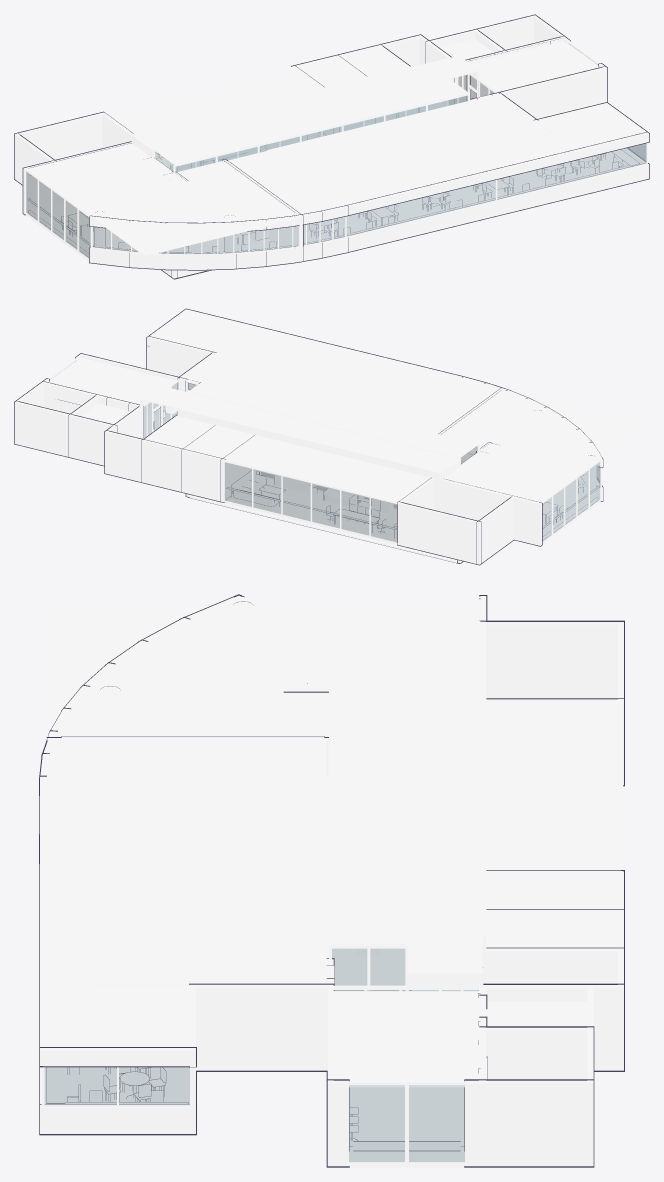
File: a4_blockout.glb
3 renders of one model, top to bottom at view 1: azimuth 30°, elevation 25°; view 2: azimuth 150°, elevation 25°; view 3: azimuth 270°, elevation 25°, orthographic. The views are drawn at different scales.
Parts seen in each view (by area): view 1: Walls, Ceil_BigRoom, Scenery_Ceil156, Glass_Wall_Ribbon, Ceil_Corridor, Ceil_Shaft, Floor, Ceil_Online, Glass_Wall, Ceil_A4-001, Ceil_GroupRooms, Glass_Wall_Shaft (+9 smaller); view 2: Walls, Ceil_BigRoom, Scenery_Ceil156, Glass_Wall, Ceil_Online, Ceil_Corridor, Ceil_Shaft, Online_Furn, Ceil_A4-001, Ceil_GroupRooms, Plaster_Band, Online_FloorTint (+5 smaller); view 3: Ceil_BigRoom, Walls, Scenery_Ceil156, Ceil_Online, Ceil_Corridor, Ceil_Shaft, Ceil_A4-001, Glass_Wall, Ceil_GroupRooms, Glass_Wall_Ribbon, A4-001_FloorTint, Glass_Wall_Shaft (+7 smaller).
Part boxes in pixels (left/top/right/bottom): Walls: left=14, top=14, right=649, bottom=279; Ceil_BigRoom: left=27, top=103, right=641, bottom=256; Scenery_Ceil156: left=228, top=94, right=644, bottom=214; Glass_Wall_Ribbon: left=92, top=143, right=647, bottom=255; Ceil_Corridor: left=135, top=56, right=476, bottom=149; Ceil_Shaft: left=154, top=78, right=468, bottom=164; Floor: left=26, top=101, right=626, bottom=270; Ceil_Online: left=103, top=66, right=322, bottom=134; Glass_Wall: left=25, top=40, right=601, bottom=260; Ceil_A4-001: left=469, top=41, right=598, bottom=92; Ceil_GroupRooms: left=294, top=45, right=408, bottom=87; Glass_Wall_Shaft: left=173, top=78, right=469, bottom=172; Walls: left=14, top=308, right=603, bottom=565; Ceil_BigRoom: left=149, top=312, right=649, bottom=502; Scenery_Ceil156: left=160, top=310, right=502, bottom=434; Glass_Wall: left=46, top=357, right=601, bottom=544; Ceil_Online: left=224, top=435, right=432, bottom=504; Ceil_Corridor: left=143, top=386, right=458, bottom=472; Ceil_Shaft: left=188, top=378, right=478, bottom=458; Online_Furn: left=225, top=462, right=396, bottom=538; Ceil_A4-001: left=49, top=358, right=178, bottom=406; Ceil_GroupRooms: left=144, top=416, right=256, bottom=459; Plaster_Band: left=140, top=385, right=460, bottom=485; Online_FloorTint: left=227, top=479, right=396, bottom=541; Ceil_BigRoom: left=43, top=597, right=483, bottom=1048; Walls: left=39, top=594, right=624, bottom=1167; Scenery_Ceil156: left=43, top=739, right=330, bottom=1048; Ceil_Online: left=486, top=700, right=620, bottom=872; Ceil_Corridor: left=407, top=680, right=482, bottom=970; Ceil_Shaft: left=330, top=679, right=406, bottom=945; Ceil_A4-001: left=333, top=991, right=478, bottom=1087; Glass_Wall: left=237, top=596, right=622, bottom=1165; Ceil_GroupRooms: left=486, top=872, right=620, bottom=949; Glass_Wall_Ribbon: left=41, top=1066, right=189, bottom=1106; A4-001_FloorTint: left=349, top=1087, right=464, bottom=1145; Glass_Wall_Shaft: left=329, top=679, right=407, bottom=990.
Bounding box in the file's own units: 37.81 × 7.64 × 19.17.
